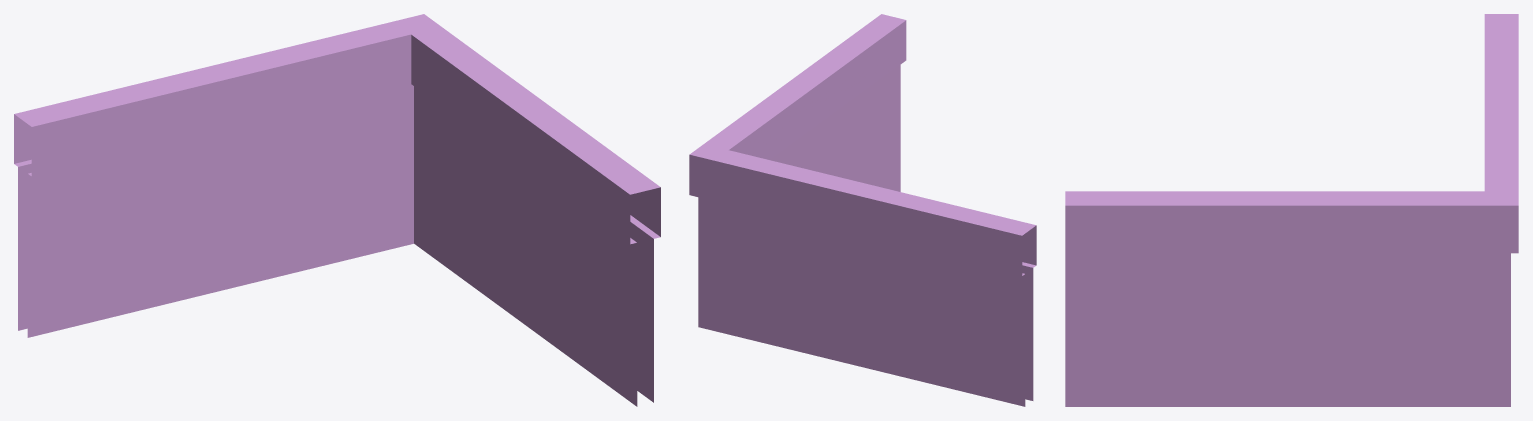
File: Museum_mesa_Fence_Border.fbx
The picture shows the model from 3 angles, left to right: view 1: azimuth 30°, elevation 25°; view 2: azimuth 150°, elevation 25°; view 3: azimuth 270°, elevation 25°; orthographic projection. The views are drawn at different scales.
Visible parts, largest first — view 1: Archi_Annexes_Etage.001; view 2: Archi_Annexes_Etage.001; view 3: Archi_Annexes_Etage.001.
Part boxes in pixels (box(x1,y1,x2,y2)): Archi_Annexes_Etage.001: box(14, 14, 660, 406); Archi_Annexes_Etage.001: box(689, 14, 1036, 406); Archi_Annexes_Etage.001: box(1065, 14, 1518, 406).
Size of the model in its own units: 215 by 107 by 215.
